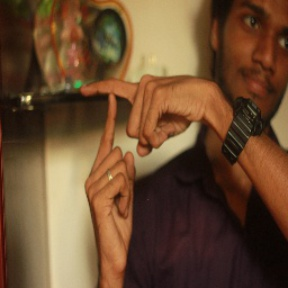T: (71, 66, 158, 196)
